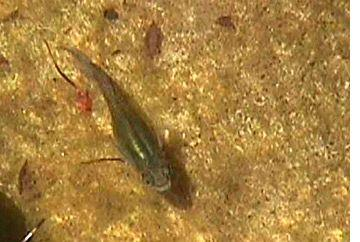Mosquito Fish: (59, 42, 176, 199)
